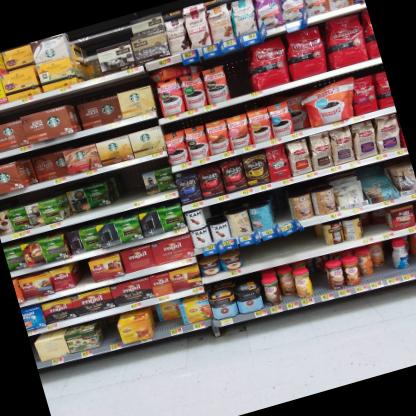empty_space: (238, 224, 327, 276), (262, 185, 299, 238), (110, 164, 148, 210), (94, 315, 124, 353), (68, 259, 95, 293), (29, 336, 43, 368)
